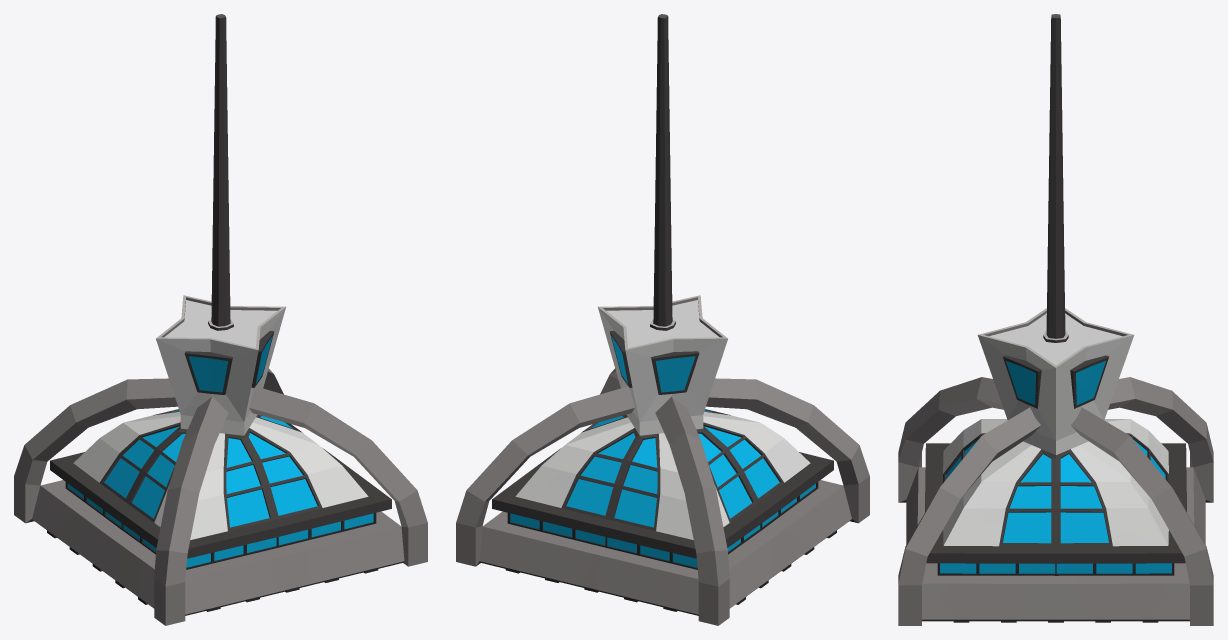
File: Building_3.fbx
3 renders of one model, left to right at view 1: azimuth 30°, elevation 25°; view 2: azimuth 150°, elevation 25°; view 3: azimuth 270°, elevation 25°, orthographic. The views are drawn at different scales.
Visible parts, largest first — view 1: Building_Mesh_3; view 2: Building_Mesh_3; view 3: Building_Mesh_3.
Part boxes in pixels (box(x1,y1,x2,y2)): Building_Mesh_3: box(14, 14, 427, 625); Building_Mesh_3: box(456, 14, 869, 625); Building_Mesh_3: box(898, 14, 1213, 625).
Size of the model in its own units: 3.17 by 6.03 by 3.17.
